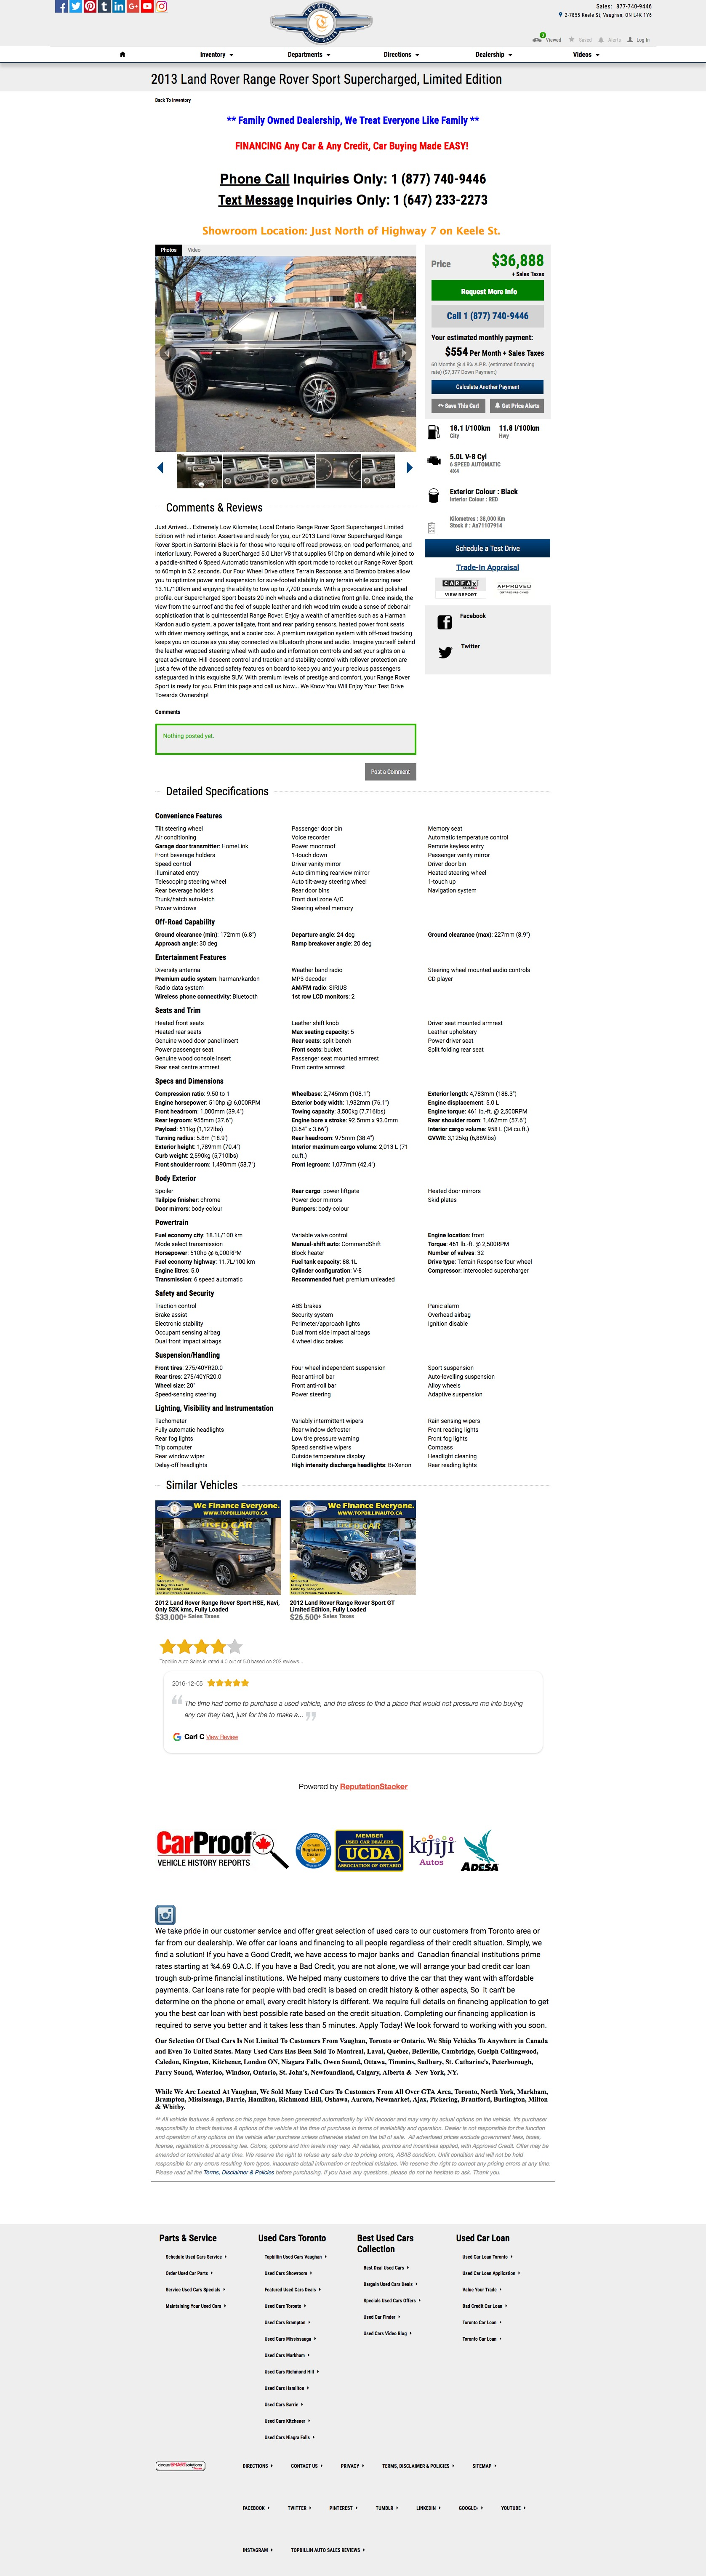car: (407, 462, 414, 475)
